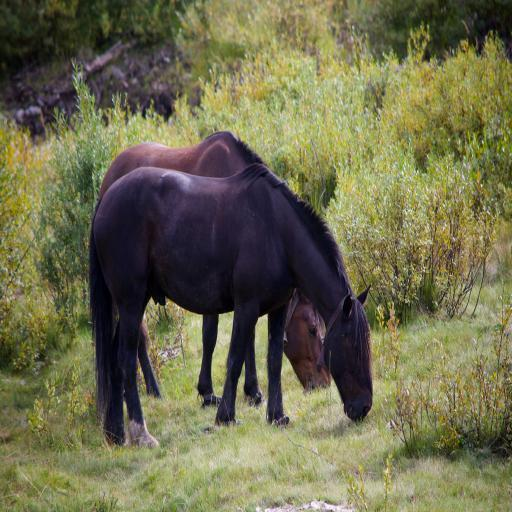horse: (97, 126, 333, 408)
